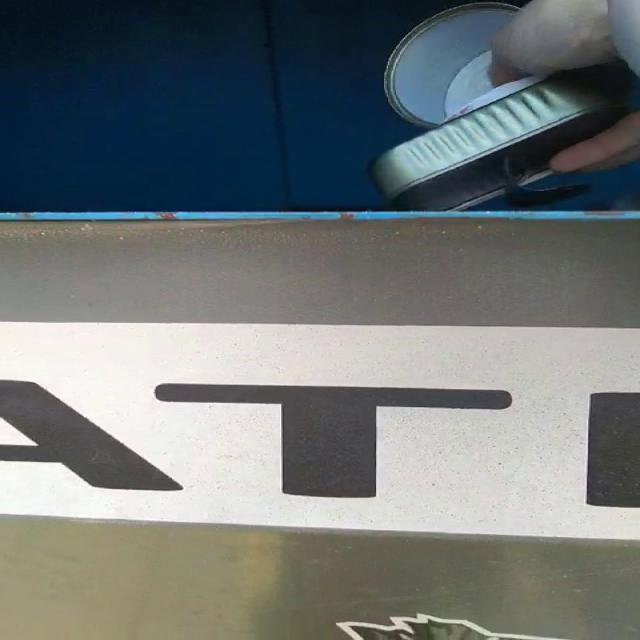bin: (1, 0, 470, 211), (2, 518, 640, 640), (4, 212, 640, 331)
metal: (372, 2, 636, 209)
